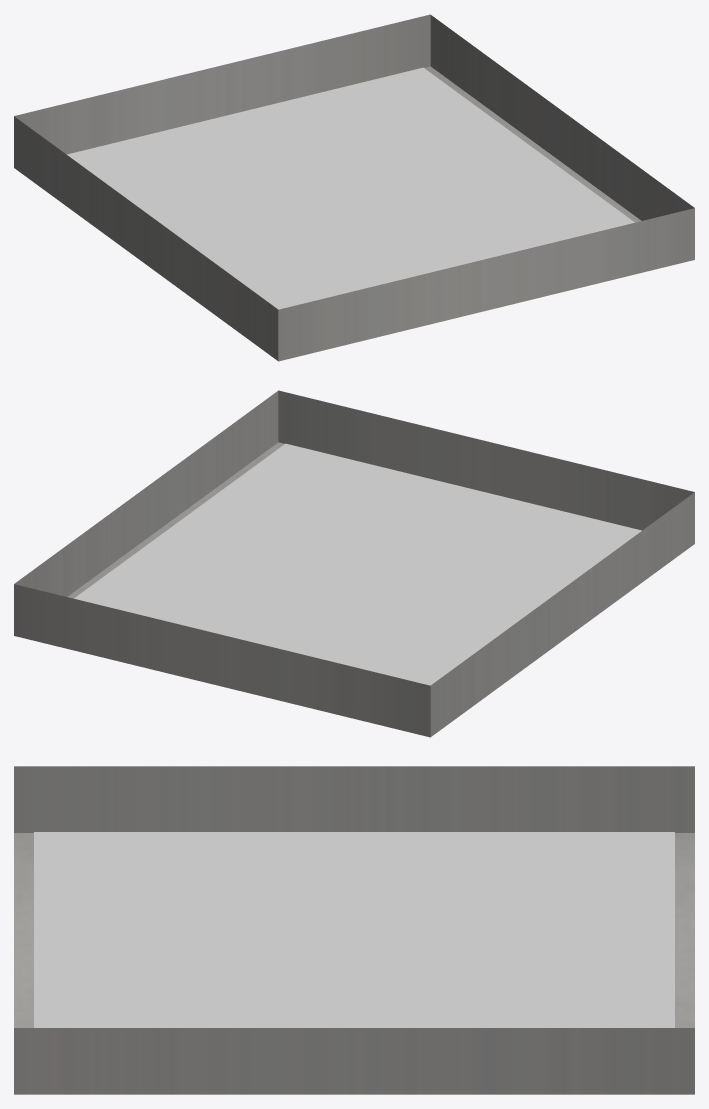
File: ceiling light.fbx
The picture shows the model from 3 angles, top to bottom: view 1: azimuth 30°, elevation 25°; view 2: azimuth 150°, elevation 25°; view 3: azimuth 270°, elevation 25°; orthographic projection. The views are drawn at different scales.
Parts seen in each view (by area): view 1: light face, ceiling light; view 2: light face, ceiling light; view 3: light face, ceiling light.
Part boxes in pixels (x1=…): light face: x1=67, y1=67, x2=634, y2=309; ceiling light: x1=14, y1=14, x2=694, y2=361; light face: x1=74, y1=443, x2=641, y2=685; ceiling light: x1=14, y1=390, x2=694, y2=737; light face: x1=34, y1=832, x2=674, y2=1027; ceiling light: x1=14, y1=766, x2=694, y2=1094.
Bounding box in the file's own units: 250 × 29.67 × 274.
